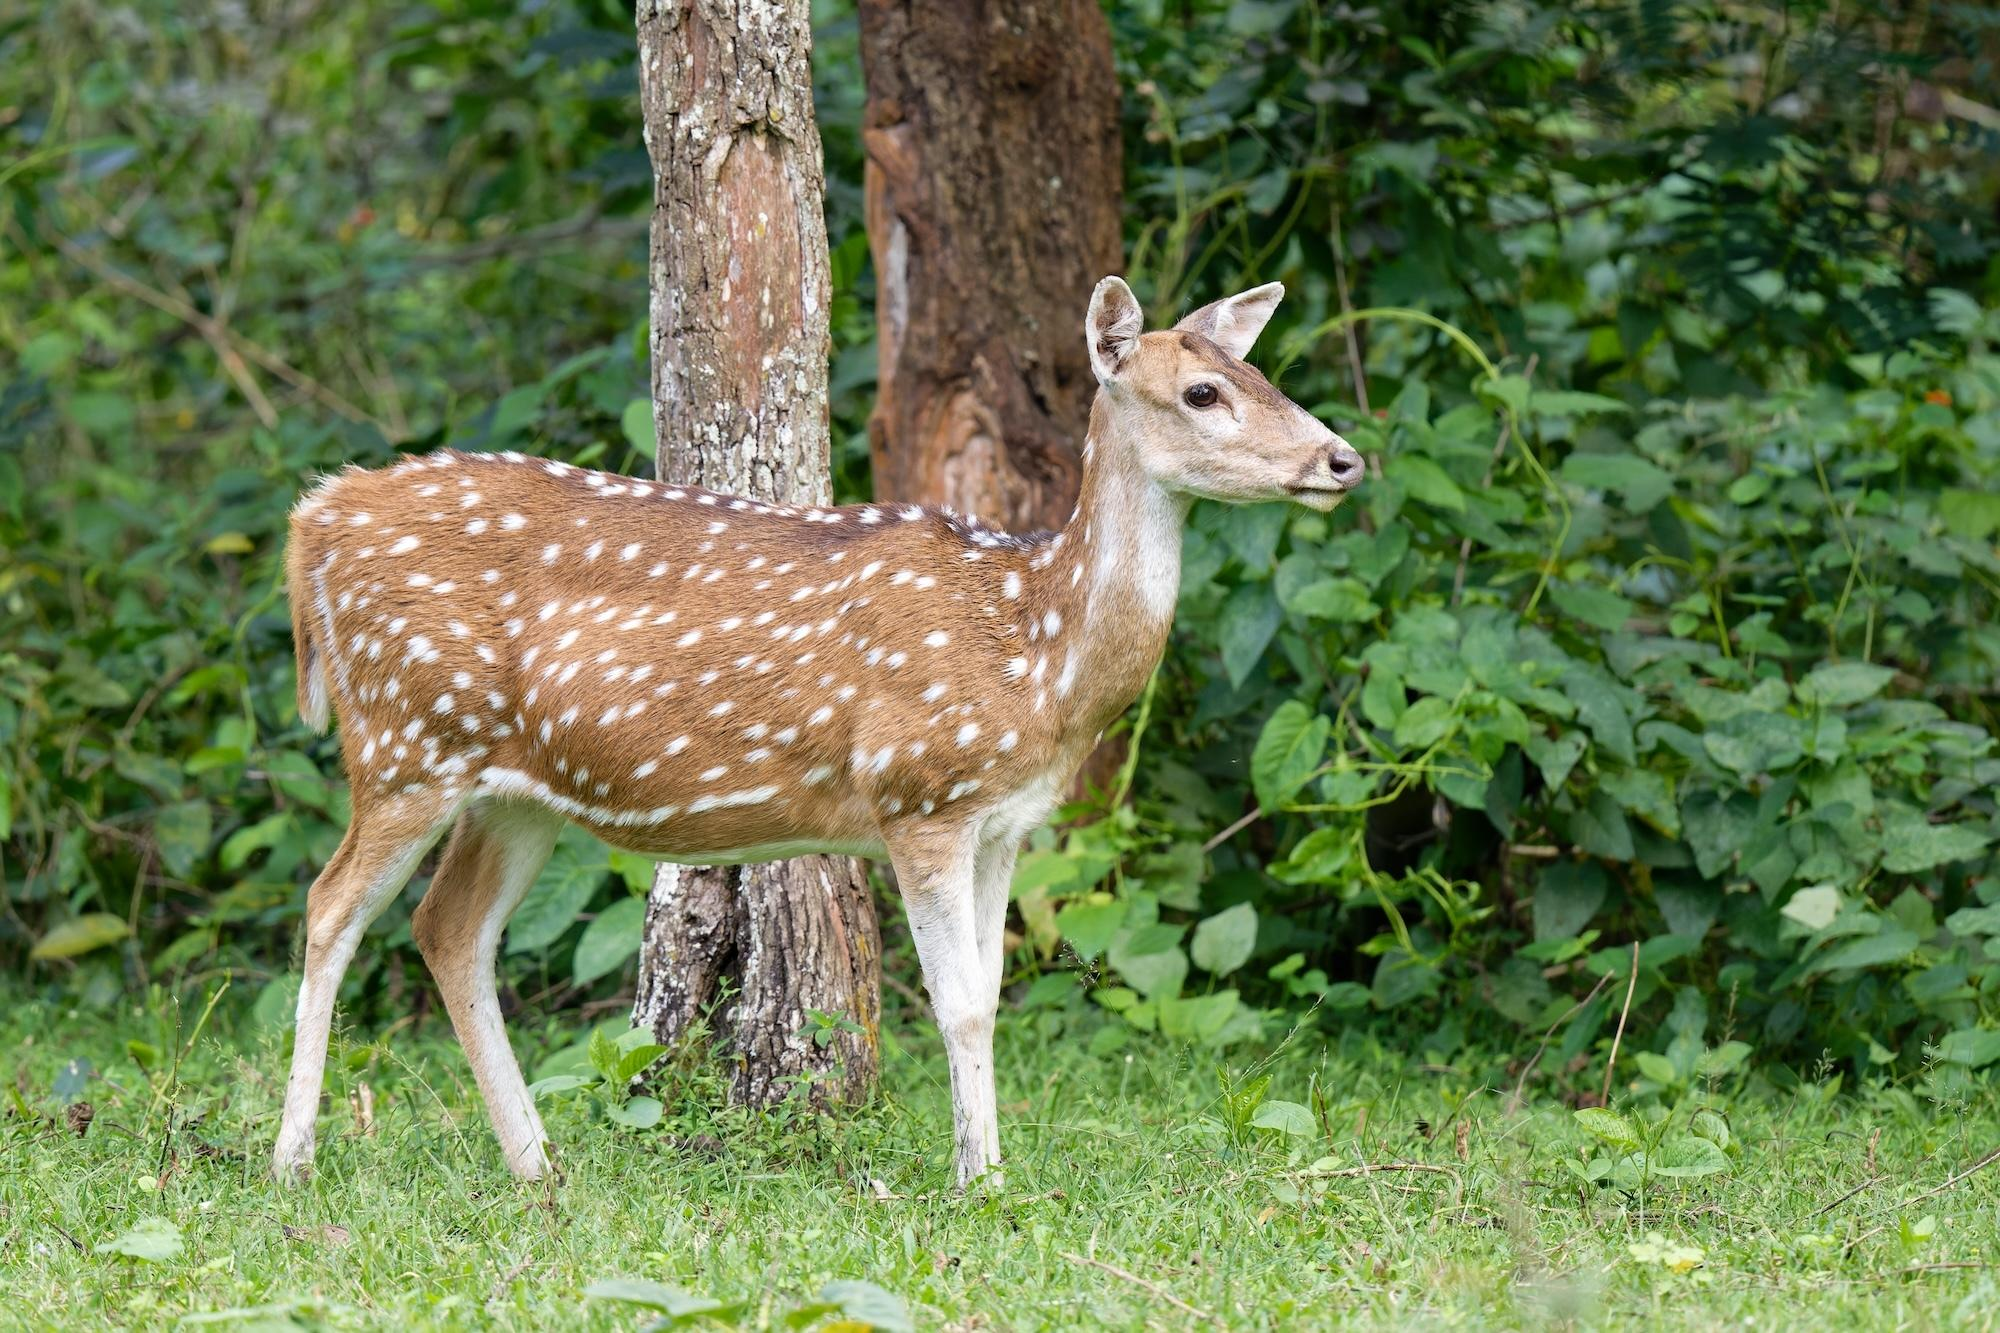Deer: (274, 277, 1364, 1183)
